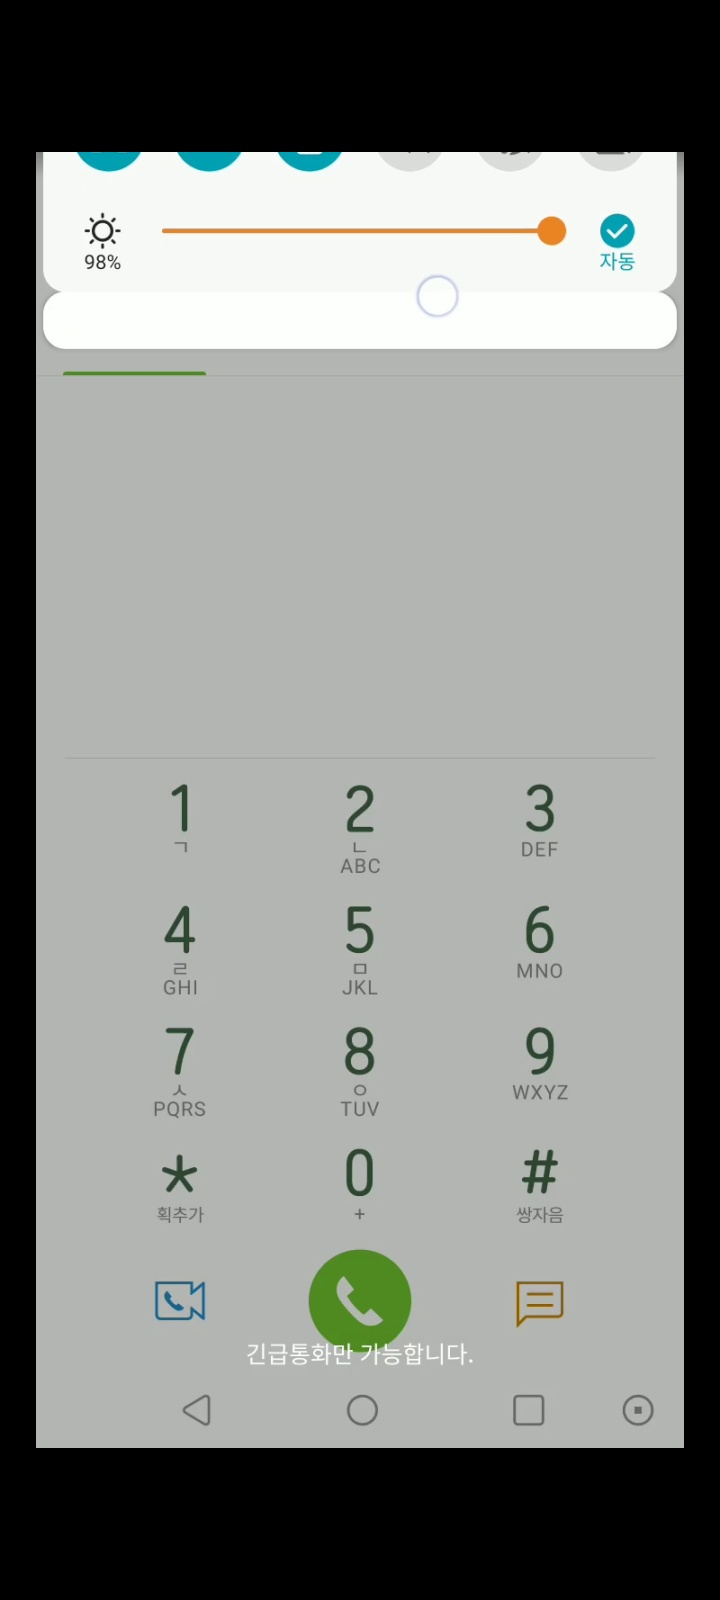Cursor: (414, 274, 459, 319)
